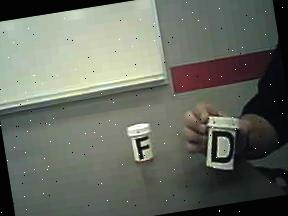Bottle D: (200, 106, 252, 178)
Bottle F: (123, 116, 162, 171)
